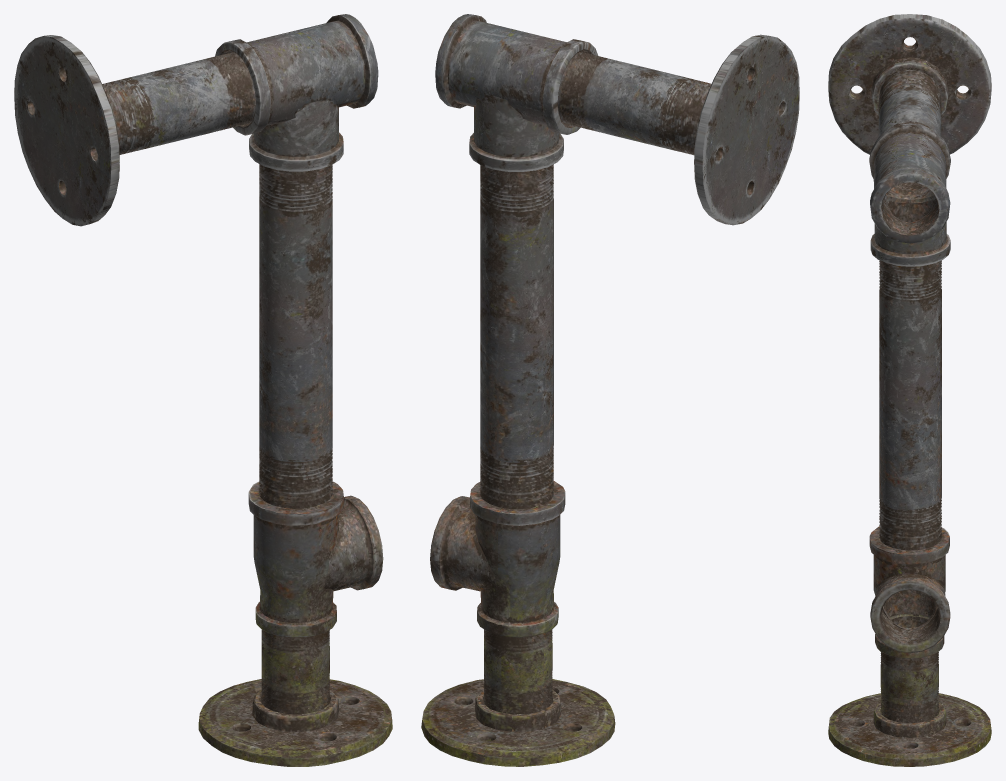
Rendered from pipe_hosobent.fbx.
3 renders of one model, left to right at view 1: azimuth 30°, elevation 25°; view 2: azimuth 150°, elevation 25°; view 3: azimuth 270°, elevation 25°, orthographic. The views are drawn at different scales.
Parts seen in each view (by area): view 1: pipe, base2, base1, tri2, tri, pipe2, pipe3, tri____, tri1; view 2: pipe, base2, base1, tri2, pipe2, tri, pipe3, tri____, tri1; view 3: pipe, base2, base1, tri2, tri, pipe3, pipe2, tri1, tri____.
Boxes of the visible parts, bbox=[...] form: pipe: bbox=[259, 164, 332, 508]; base2: bbox=[14, 35, 119, 226]; base1: bbox=[198, 679, 392, 766]; tri2: bbox=[215, 14, 378, 135]; tri: bbox=[248, 481, 343, 637]; pipe2: bbox=[102, 52, 255, 154]; pipe3: bbox=[261, 629, 329, 714]; tri____: bbox=[249, 99, 343, 171]; tri1: bbox=[324, 495, 383, 591]; pipe: bbox=[480, 164, 553, 509]; base2: bbox=[694, 34, 799, 225]; base1: bbox=[421, 679, 615, 766]; tri2: bbox=[435, 14, 598, 134]; pipe2: bbox=[557, 51, 711, 155]; tri: bbox=[470, 481, 565, 637]; pipe3: bbox=[484, 629, 552, 714]; tri____: bbox=[469, 94, 563, 171]; tri1: bbox=[430, 496, 504, 591]; pipe: bbox=[879, 260, 941, 550]; base2: bbox=[828, 14, 991, 154]; base1: bbox=[828, 693, 991, 766]; tri2: bbox=[869, 123, 950, 243]; tri: bbox=[869, 526, 949, 658]; pipe3: bbox=[880, 613, 938, 722]; pipe2: bbox=[878, 69, 941, 195]; tri1: bbox=[870, 574, 950, 653]; tri____: bbox=[870, 191, 950, 266].
Size of the model in its own units: 89.71 by 200 by 47.63.
Materials: 1 (1 with a texture image).
